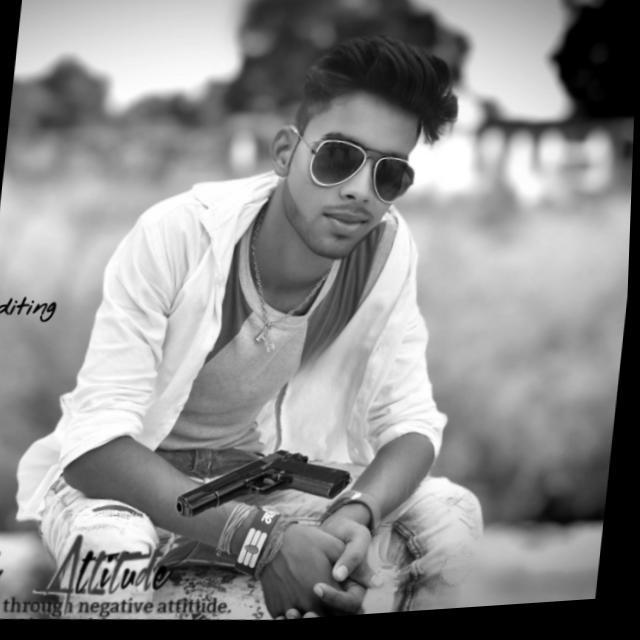weapon: (170, 438, 362, 536)
